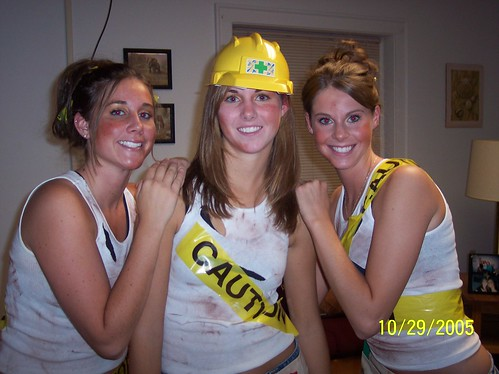person hardhat: (205, 32, 295, 153)
